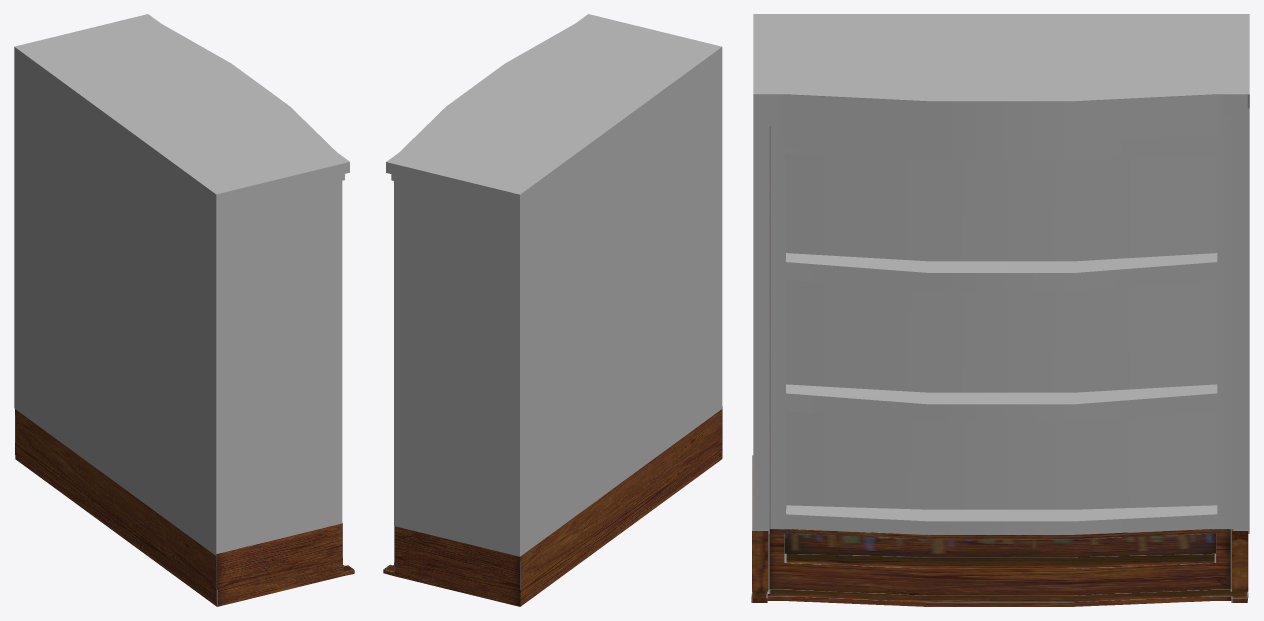
The model's file is M_Em_BookStock.fbx.
3 views of the same model, side by side, from view 1: azimuth 30°, elevation 25°; view 2: azimuth 150°, elevation 25°; view 3: azimuth 270°, elevation 25° (orthographic). The views are drawn at different scales.
Parts seen in each view (by area): view 1: 立方体.072; view 2: 立方体.072; view 3: 立方体.072.
Part boxes in pixels (<box>): 立方体.072: <box>14,14,354,606</box>; 立方体.072: <box>383,14,722,606</box>; 立方体.072: <box>751,14,1249,606</box>.
Bounding box in the file's own units: 95.26 × 257 × 229.
